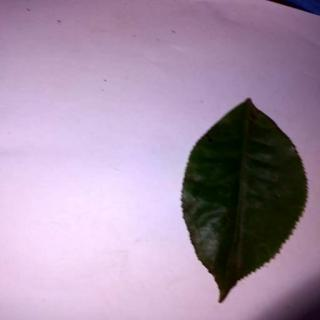Bird Eye Spot: (182, 98, 310, 305)
